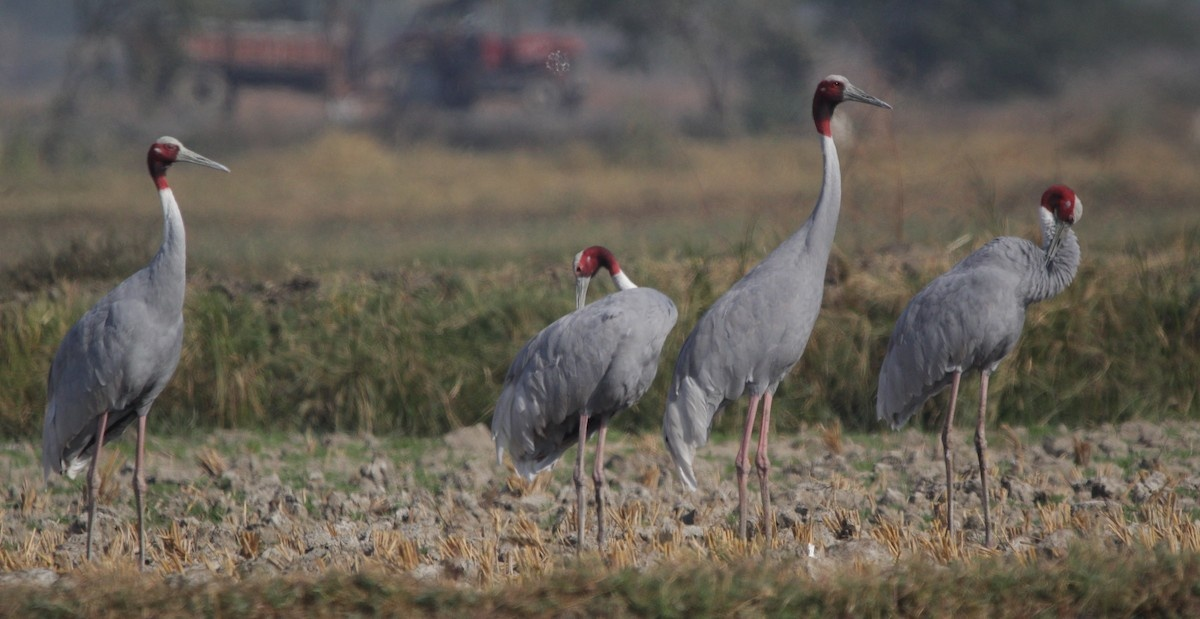crane: (658, 69, 896, 543), (24, 132, 262, 564), (869, 170, 1098, 540), (504, 233, 677, 557)
